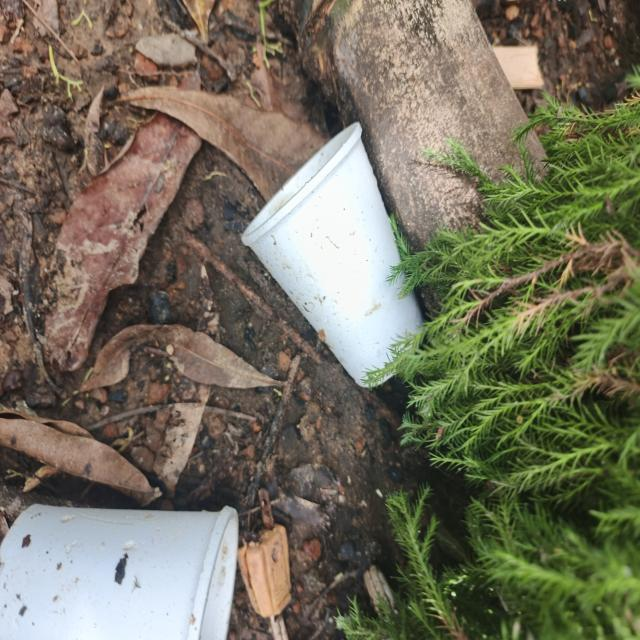plastic: (237, 112, 432, 401), (0, 478, 264, 640)
